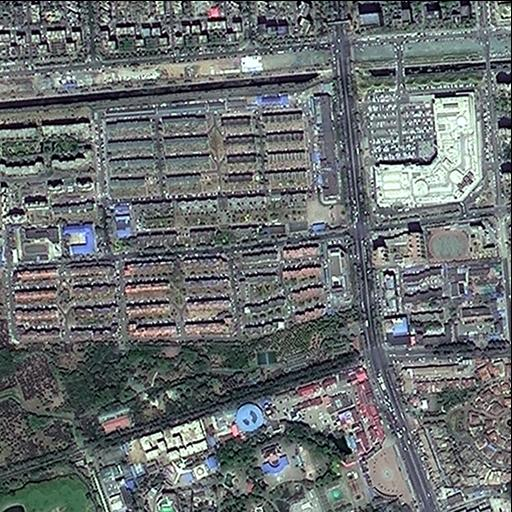school: (424, 214, 500, 265), (16, 221, 60, 262)
